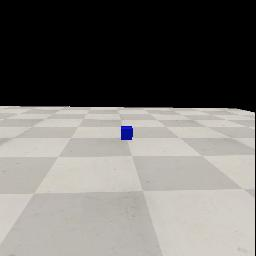box: (120, 125, 133, 140)
